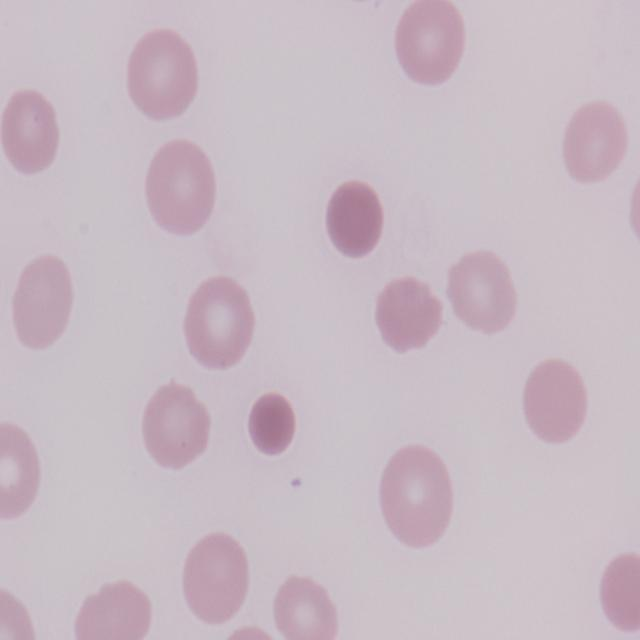RBC: (374, 444, 454, 552), (122, 26, 200, 130), (4, 250, 79, 355), (140, 135, 216, 238), (180, 276, 258, 376), (177, 531, 253, 630), (140, 380, 214, 480), (389, 0, 466, 92), (442, 250, 520, 340), (520, 358, 592, 449), (558, 102, 630, 186), (68, 572, 155, 640), (372, 278, 444, 360), (0, 88, 65, 178), (266, 570, 340, 640), (0, 423, 45, 523), (597, 548, 640, 640)
Spherocyte: (320, 180, 385, 262), (247, 389, 297, 459)
